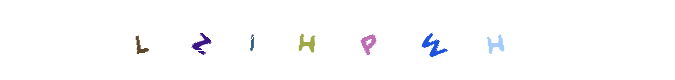H: (297, 0, 377, 80), (398, 0, 478, 80)
I: (252, 0, 332, 80)
L: (100, 0, 180, 80)
P: (308, 0, 388, 80)
W: (393, 0, 473, 80)
Z: (172, 0, 252, 80)
